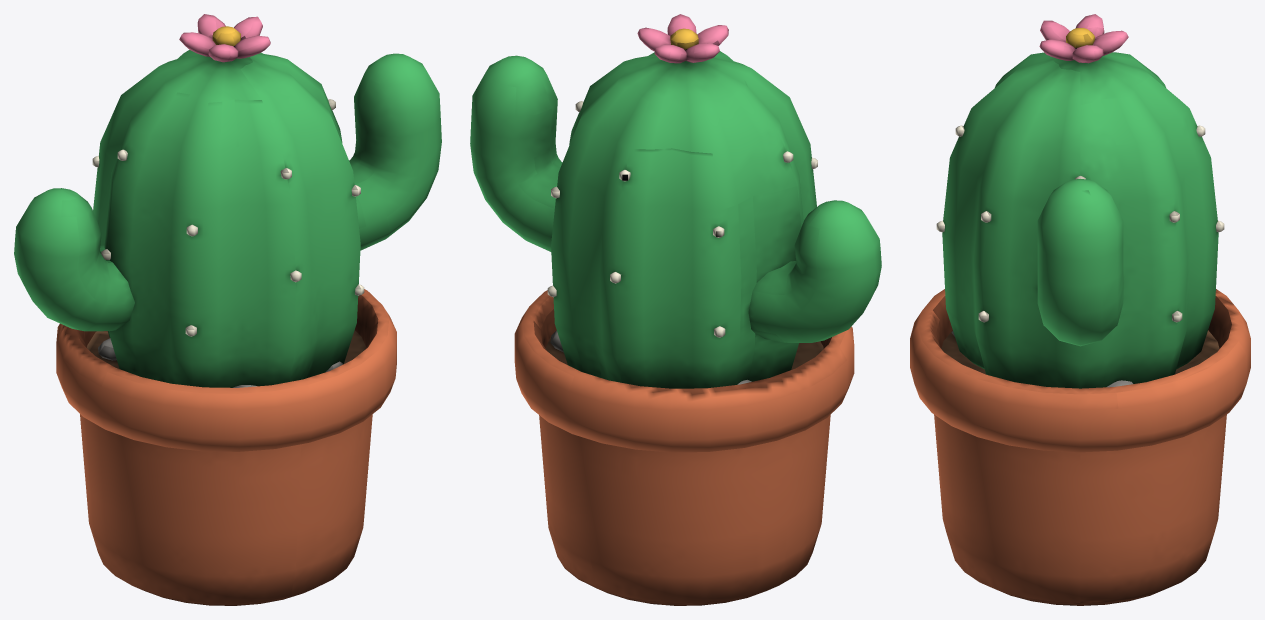
Rendered from cactus.glb.
3 renders of one model, left to right at view 1: azimuth 30°, elevation 25°; view 2: azimuth 150°, elevation 25°; view 3: azimuth 270°, elevation 25°, orthographic.
Visible parts, largest first — view 1: cactus; view 2: cactus; view 3: cactus.
Part boxes in pixels (box(x1,y1,x2,y2)): cactus: box(14, 14, 441, 605); cactus: box(470, 14, 881, 605); cactus: box(910, 14, 1250, 605).
Bounding box in the file's own units: 0.13 × 0.1609 × 0.094.
7 materials, 7 textured.
